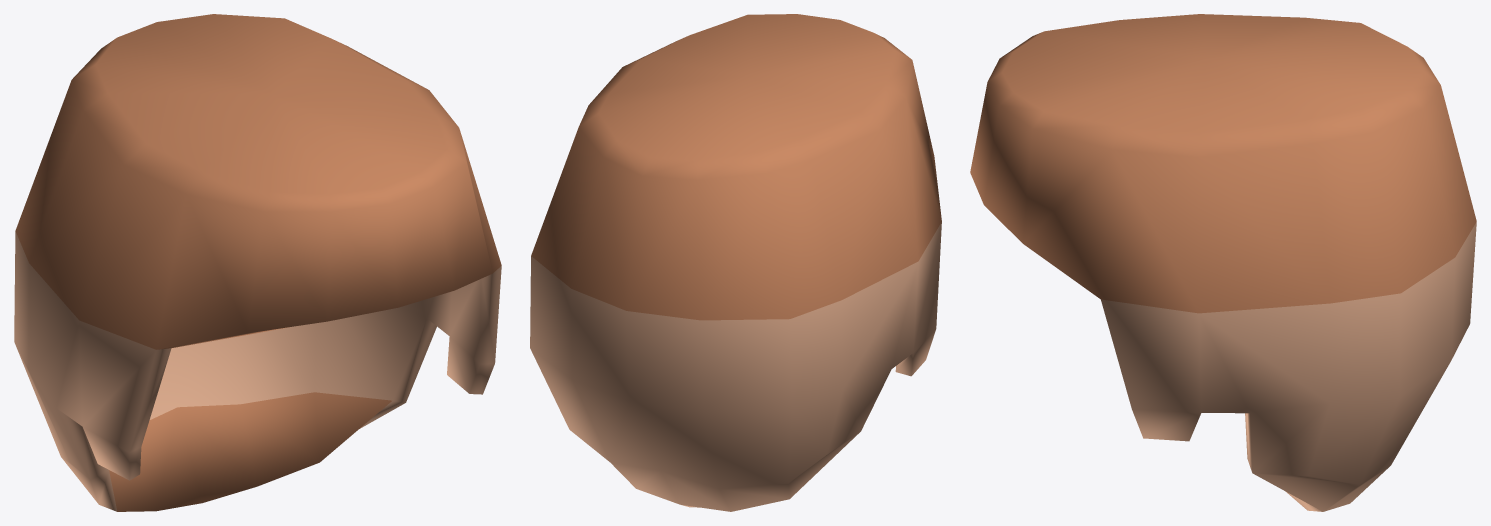
File: CrewCut.fbx
The picture shows the model from 3 angles, left to right: view 1: azimuth 30°, elevation 25°; view 2: azimuth 150°, elevation 25°; view 3: azimuth 270°, elevation 25°; orthographic projection. The views are drawn at different scales.
Visible parts, largest first — view 1: 03 Hair - Crew Cut; view 2: 03 Hair - Crew Cut; view 3: 03 Hair - Crew Cut.
Boxes of the visible parts, x1,y1,x2,y2 form: 03 Hair - Crew Cut: (14, 14, 501, 511); 03 Hair - Crew Cut: (530, 14, 941, 511); 03 Hair - Crew Cut: (970, 14, 1476, 511).
Bounding box in the file's own units: 0.2147 × 0.239 × 0.2548.
